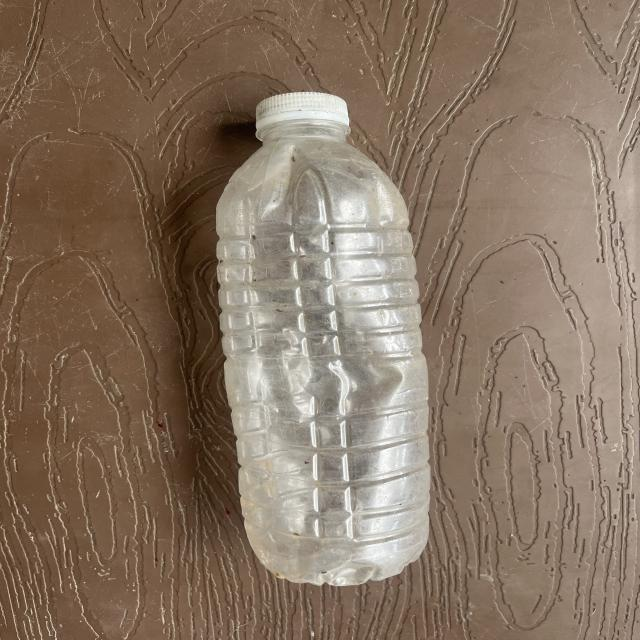REJECT: (178, 93, 529, 584)
